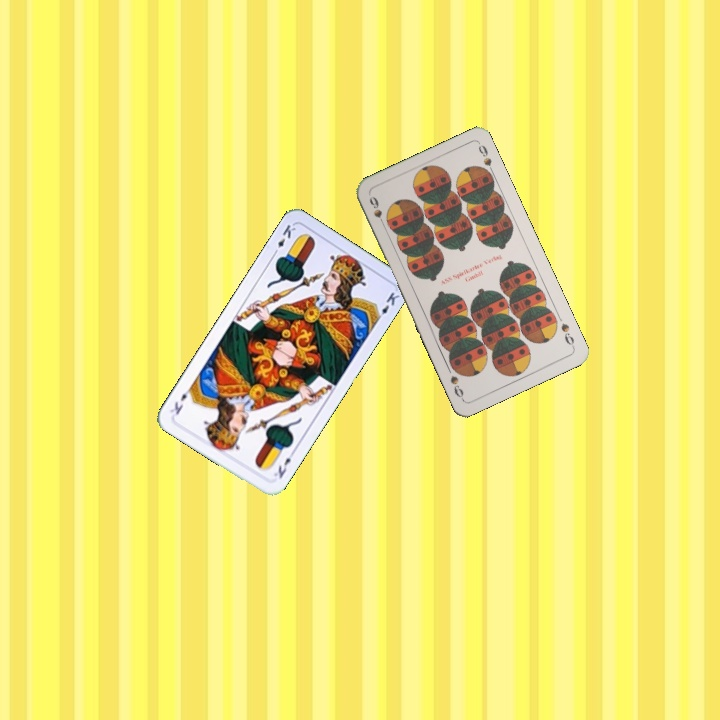EK: (269, 220, 298, 258), (270, 446, 298, 481)
S9: (365, 192, 388, 230), (557, 319, 577, 350)
